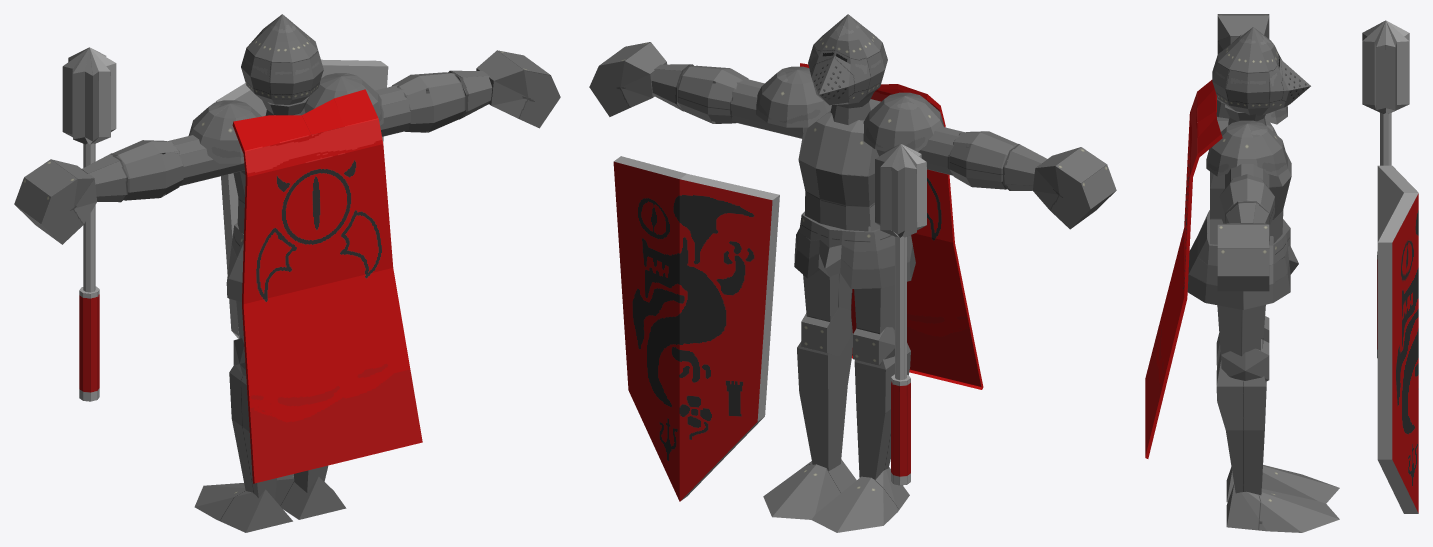
File: knight.fbx
3 renders of one model, left to right at view 1: azimuth 30°, elevation 25°; view 2: azimuth 150°, elevation 25°; view 3: azimuth 270°, elevation 25°, orthographic. The views are drawn at different scales.
Parts seen in each view (by area): view 1: Cape, Helmet, Hand, cylinder_2, Hand_1, Shield, Forearm, forearm_r, shoe_l, shoulder_l, cylinder, shin_l (+8 smaller); view 2: Shield, Cape, Chest, Tasset, shin_r, Helmet, Hand, cylinder_2, shin_l, shoe_l, Hand_1, shoulder_l (+15 smaller); view 3: Shield, Cape, Helmet, shin_r, Tasset, cylinder_2, shoe_r, Hand_1, shoulder_r, thigh_r, Chest, shoe_l (+8 smaller).
Part boxes in pixels (bbox=[...]): Cape: bbox=[232, 89, 422, 483]; Helmet: bbox=[241, 14, 323, 104]; Hand: bbox=[14, 159, 97, 244]; cylinder_2: bbox=[62, 47, 116, 144]; Hand_1: bbox=[476, 50, 560, 128]; Shield: bbox=[216, 59, 388, 338]; Forearm: bbox=[112, 140, 183, 200]; forearm_r: bbox=[391, 72, 465, 132]; shoe_l: bbox=[194, 483, 292, 532]; shoulder_l: bbox=[188, 100, 261, 163]; cylinder: bbox=[79, 286, 99, 401]; shin_l: bbox=[229, 364, 276, 499]; Shield: bbox=[613, 156, 779, 501]; Cape: bbox=[800, 63, 983, 389]; Chest: bbox=[798, 99, 880, 231]; Tasset: bbox=[794, 211, 915, 288]; shin_r: bbox=[797, 319, 852, 471]; Helmet: bbox=[808, 14, 887, 105]; Hand: bbox=[1033, 147, 1116, 229]; cylinder_2: bbox=[875, 144, 926, 237]; shin_l: bbox=[854, 343, 910, 479]; shoe_l: bbox=[811, 467, 909, 532]; Hand_1: bbox=[589, 42, 667, 116]; shoulder_l: bbox=[863, 92, 944, 151]; Shield: bbox=[1377, 165, 1418, 513]; Cape: bbox=[1145, 80, 1222, 458]; Helmet: bbox=[1212, 27, 1310, 115]; shin_r: bbox=[1216, 352, 1266, 495]; Tasset: bbox=[1187, 210, 1298, 309]; cylinder_2: bbox=[1362, 20, 1409, 113]; shoe_r: bbox=[1226, 484, 1339, 532]; Hand_1: bbox=[1217, 223, 1269, 291]; shoulder_r: bbox=[1206, 120, 1287, 176]; thigh_r: bbox=[1217, 305, 1265, 358]; Chest: bbox=[1210, 117, 1291, 244]; shoe_l: bbox=[1226, 465, 1339, 503].
Size of the model in its own units: 485 by 443 by 230.
4 materials, 4 textured.
